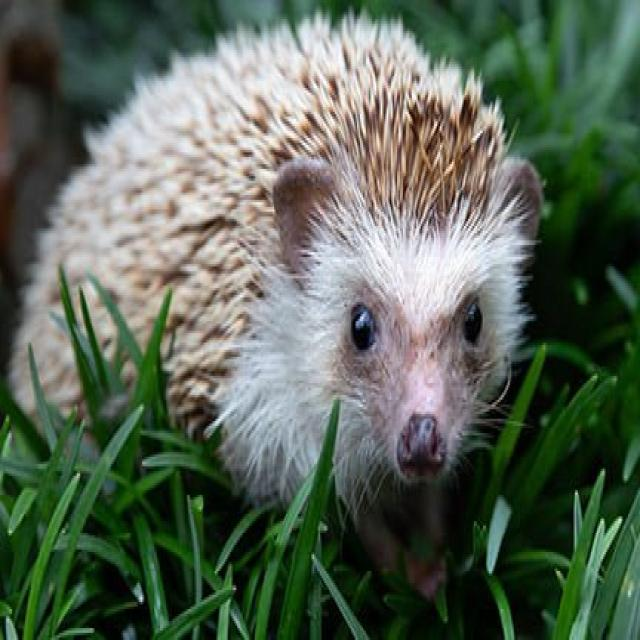Hedgehog: (15, 12, 538, 526)
